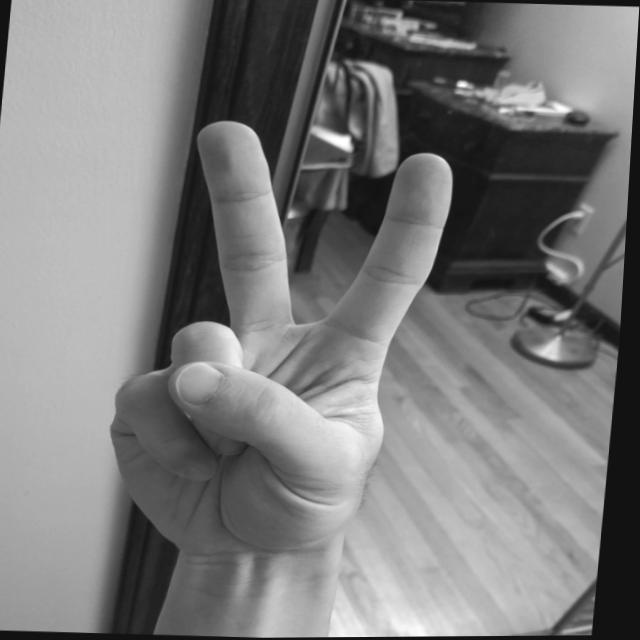V: (96, 111, 470, 571)
